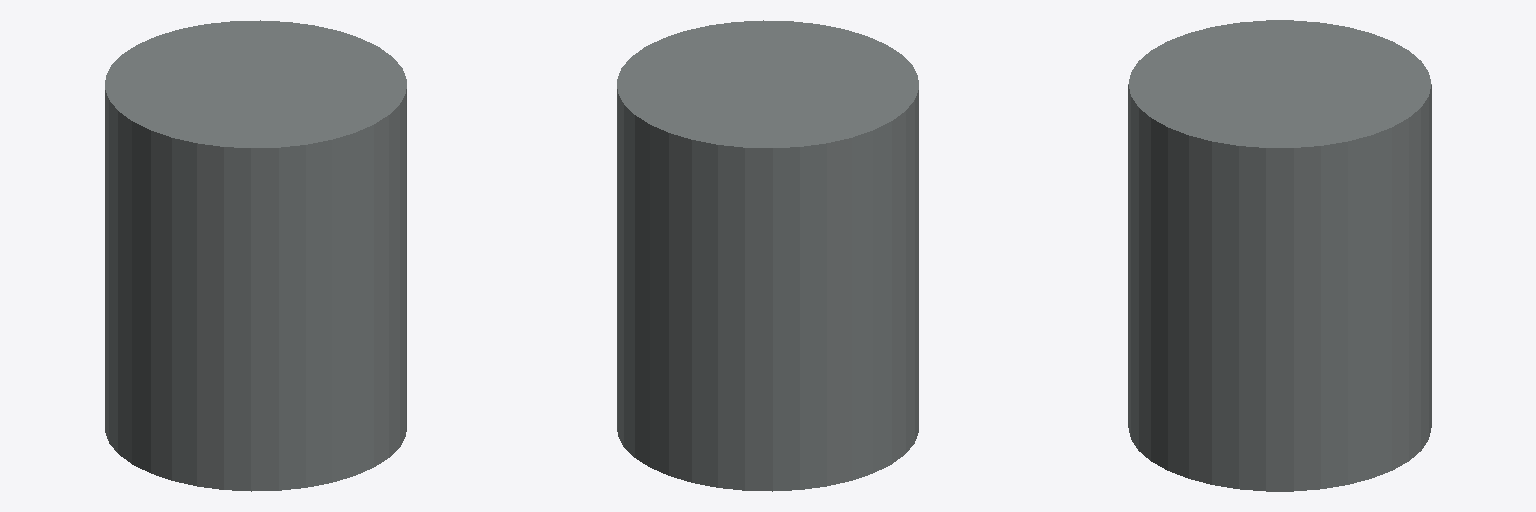
The robot description file, URDF, robot "baselink_mount":
<?xml version="1.0" encoding="utf-8"?>
<!-- This URDF was automatically created by SolidWorks to URDF Exporter! Originally created by [author] ([email redacted]) 
     Commit Version: 1.5.1-0-g916b5db  Build Version: 1.5.7152.31018
     For more information, please see http://wiki.ros.org/sw_urdf_exporter -->
<robot
  name="baselink_mount">
  <link name="mount">
    <inertial>
      <origin
        xyz="0 3.36507382683391E-18 0.075"
        rpy="0 0 0" />
      <mass
        value="13.232" />
      <inertia
        ixx="0.03672"
        ixy="7.04577265671705E-51"
        ixz="-1.1507E-34"
        iyy="0.03672"
        iyz="-7.89993558850816E-19"
        izz="0.023818" />
    </inertial>
    <visual>
      <origin
        xyz="0 0 0"
        rpy="1.5707963267949 0 0" />
      <geometry>
        <mesh
          filename="package://my_ur10_description/meshes/baselink.STL" />
      </geometry>
      <material
        name="">
        <color
          rgba="0.52941 0.54902 0.54902 1" />
        <texture
          filename="package://my_ur10_description/meshes/baselink.STL" />
      </material>
    </visual>
    <collision>
      <origin
        xyz="0 0 0"
        rpy="1.5707963267949 0 0" />
      <geometry>
        <mesh
          filename="package://my_ur10_description/meshes/baselink.STL" />
      </geometry>
    </collision>
  </link>
</robot>

--- Render facts (derived) ---
Views: 3 orthographic renders of the robot side by side, from view 1: azimuth 30°, elevation 25°; view 2: azimuth 150°, elevation 25°; view 3: azimuth 270°, elevation 25°.
Robot: baselink_mount — 1 links, 0 joints (none); root link mount; default pose: every joint at zero.
Visible links, largest first — view 1: mount; view 2: mount; view 3: mount.
Boxes of the visible links, x1,y1,x2,y2 form: mount: (105, 20, 406, 491); mount: (617, 20, 918, 491); mount: (1128, 20, 1431, 491).
Bounding box of the posed robot: 0.1195 × 0.12 × 0.15 m (x, y, z).
Meshes: 1 distinct files referenced, 1 mesh visuals loaded (1 binary STL).